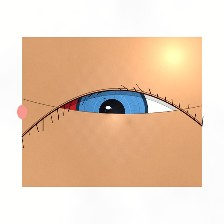hemorrhage_spot: (39, 69, 116, 130)
